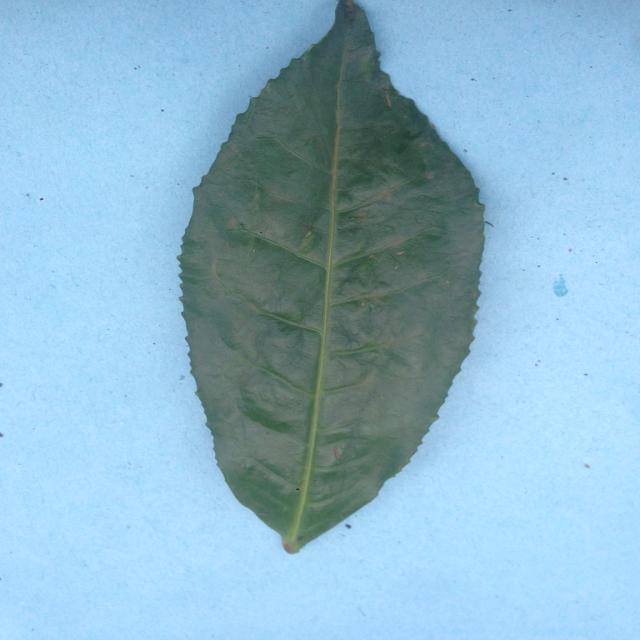Healthy: (146, 0, 528, 583)
